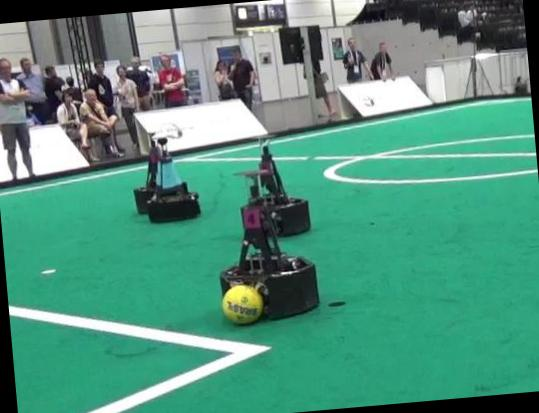ball: (220, 283, 262, 323)
person: (0, 58, 35, 180)
robot: (219, 171, 317, 318), (133, 136, 199, 220), (257, 136, 308, 235)
